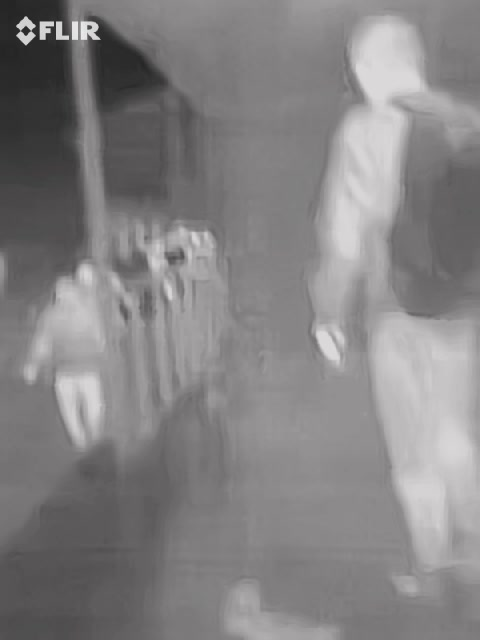head: (348, 13, 431, 115)
